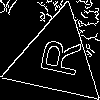R: (31, 34, 82, 79)
